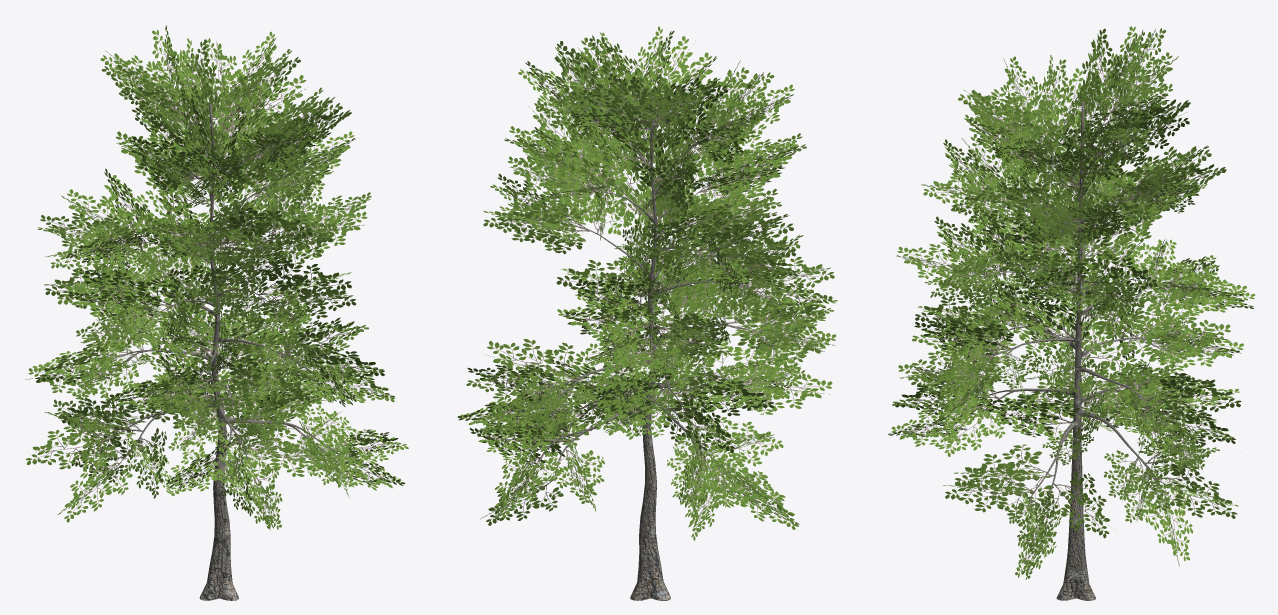
The model's file is spring_tree.glb.
3 views of the same model, side by side, from view 1: azimuth 30°, elevation 25°; view 2: azimuth 150°, elevation 25°; view 3: azimuth 270°, elevation 25° (orthographic). The views are drawn at different scales.
Visible parts, largest first — view 1: _2_TP23_Leaf_0, _2_TP23_Trunk_0; view 2: _2_TP23_Leaf_0, _2_TP23_Trunk_0; view 3: _2_TP23_Leaf_0, _2_TP23_Trunk_0.
Part boxes in pixels (<box>): _2_TP23_Leaf_0: <box>25,25,408,530</box>; _2_TP23_Trunk_0: <box>101,103,338,600</box>; _2_TP23_Leaf_0: <box>457,26,837,540</box>; _2_TP23_Trunk_0: <box>536,92,765,600</box>; _2_TP23_Leaf_0: <box>888,26,1255,579</box>; _2_TP23_Trunk_0: <box>974,101,1167,600</box>.
Size of the model in its own units: 21.99 by 33.61 by 21.35.
2 materials, 2 textured.
